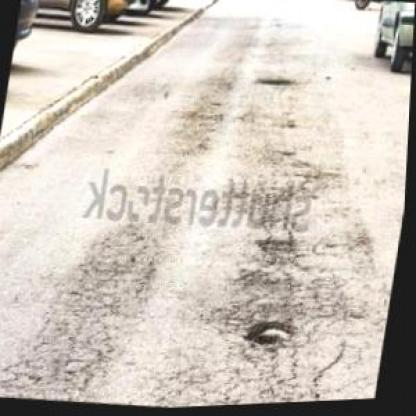pothole: (245, 316, 301, 355), (254, 72, 298, 93)
